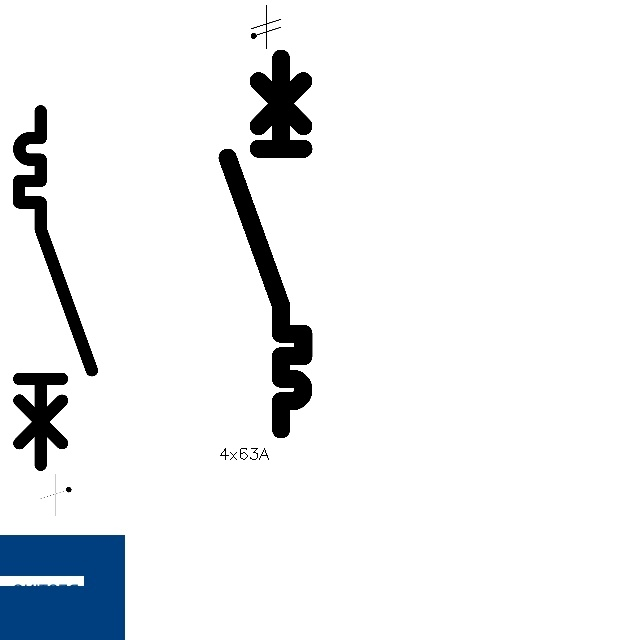interruptor_termomagnetico: (218, 49, 313, 439), (10, 102, 101, 474)
